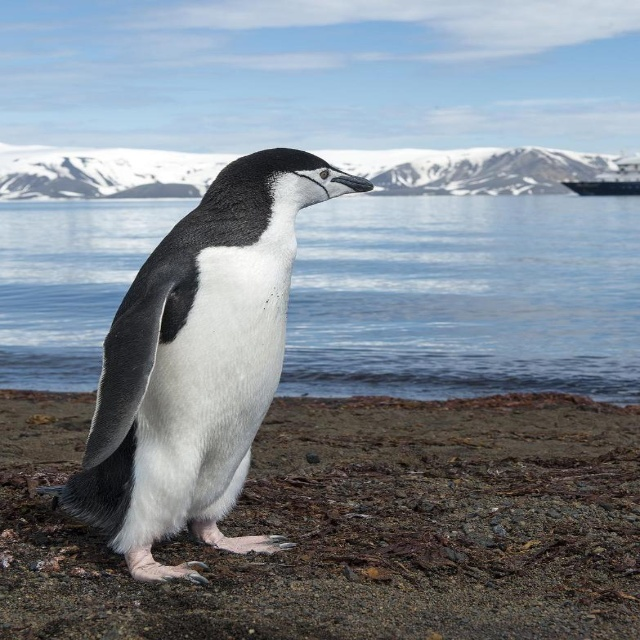Penguin: (42, 146, 382, 586)
